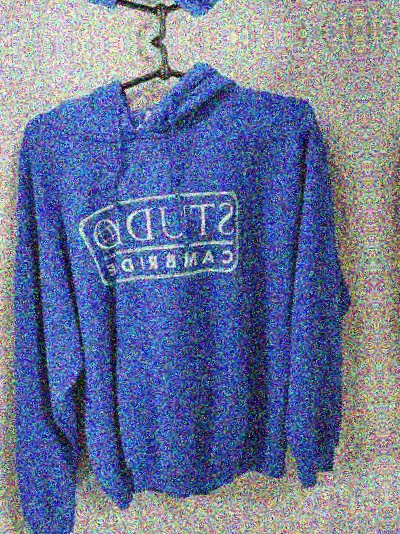Hoodie: (0, 46, 352, 534), (0, 0, 323, 38), (397, 21, 400, 518), (368, 0, 400, 13)
